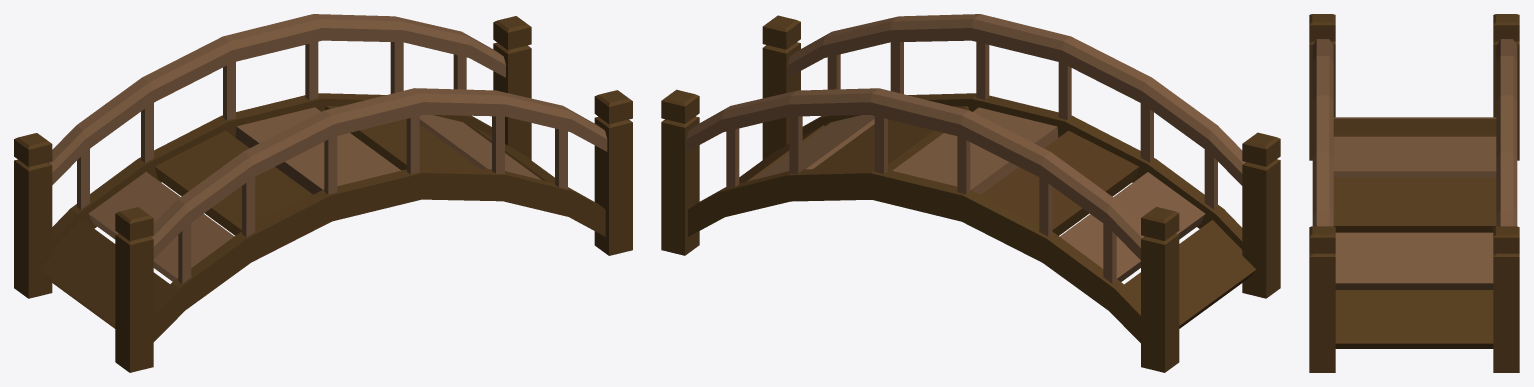
The model's file is Bridge_04.glb.
3 views of the same model, side by side, from view 1: azimuth 30°, elevation 25°; view 2: azimuth 150°, elevation 25°; view 3: azimuth 270°, elevation 25° (orthographic). The views are drawn at different scales.
Parts seen in each view (by area): view 1: Bridge_04; view 2: Bridge_04; view 3: Bridge_04.
Part boxes in pixels (x1=…): Bridge_04: x1=14, y1=14, x2=632, y2=372; Bridge_04: x1=661, y1=14, x2=1280, y2=372; Bridge_04: x1=1309, y1=14, x2=1519, y2=372.
Size of what is drawn, in the model's own units: 5.32 by 2.07 by 2.12.
Materials: 1 (1 with a texture image).
